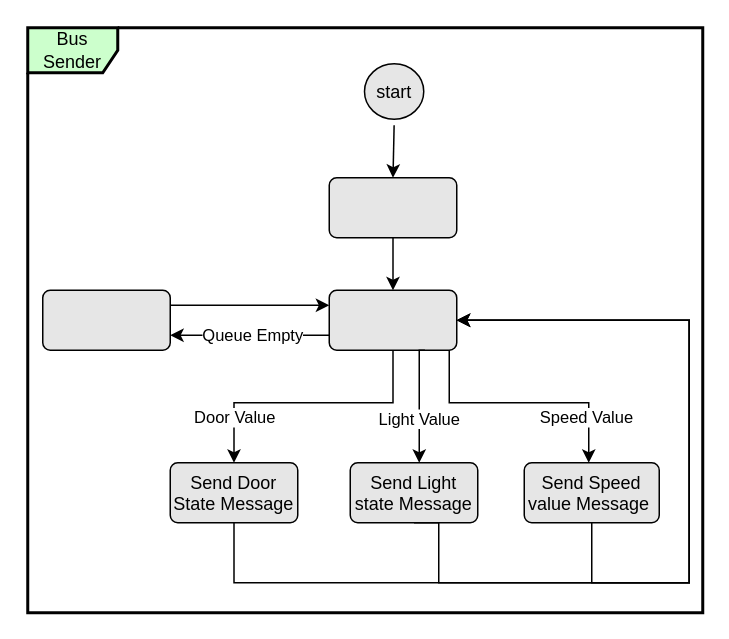
This 729x639 diagram has some shape labels left out. The centre of each missing label's shape, as x and y in pixels:
"Blocked to next 5 ms" belongs at point 105,319.
"Configure comm. channel" belongs at point 392,207.
"Read Queue" belongs at point 392,319.
